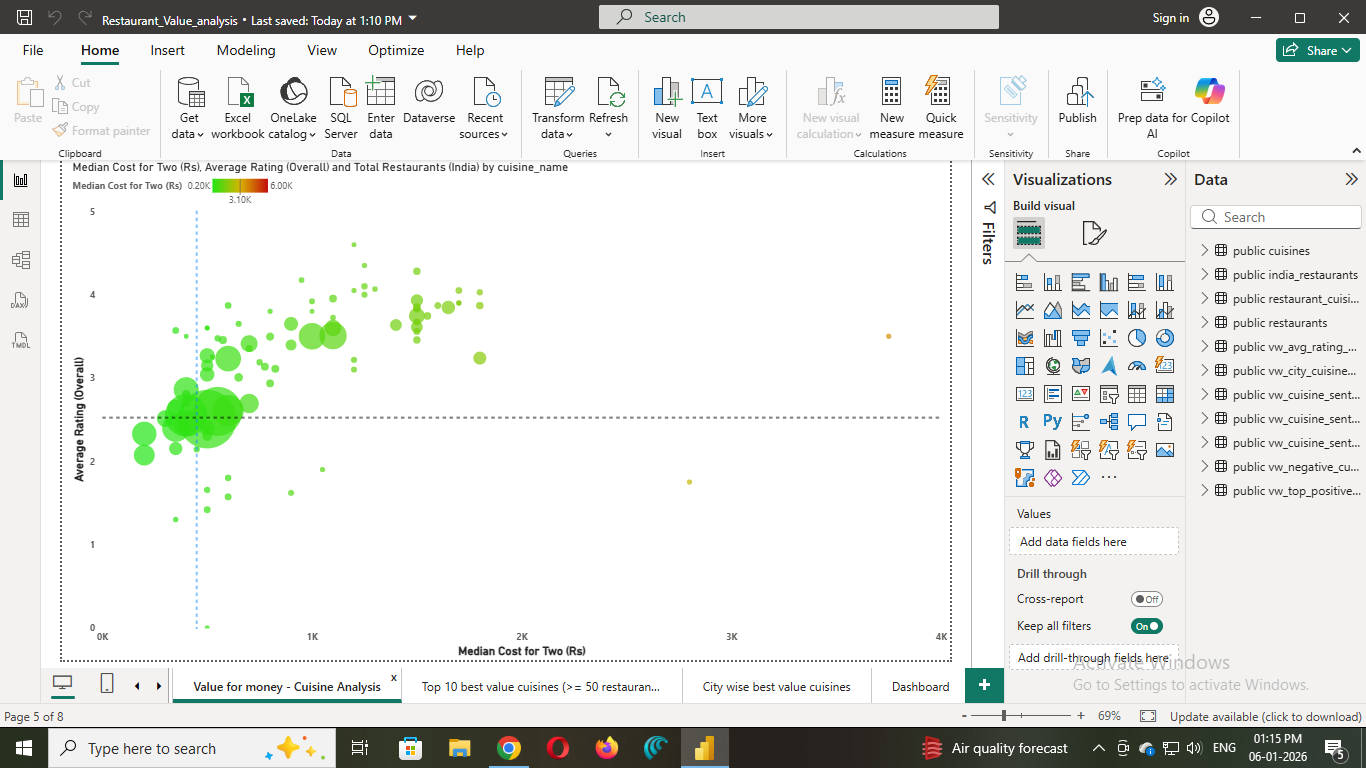

Layout of this report page (visuals, bound fields, positions):
{"tool":"powerbi","page":{"name":"Value for money - Cuisine Analysis","canvas":[1280,720],"ordinal":4},"visuals":[{"type":"scatterChart","fields":{"X":["public cuisines.Median Cost for Two"],"Y":["public cuisines.Average Rating"],"Size":["public cuisines.Total Restaurants"],"Category":["public cuisines.cuisine_name"]},"box":[10.1,0,1269.9,720.6],"z":0}]}

Visuals, with their boxes on the page's 1280x720 design canvas (x1, y1, x2, y2). These are canvas units, not pixel positions in the 1366x768 screenshot, which may show the page scaled, cropped or inside an application window:
scatterChart - public cuisines.Median Cost for Two x public cuisines.Average Rating: [10,0,1280,721]
